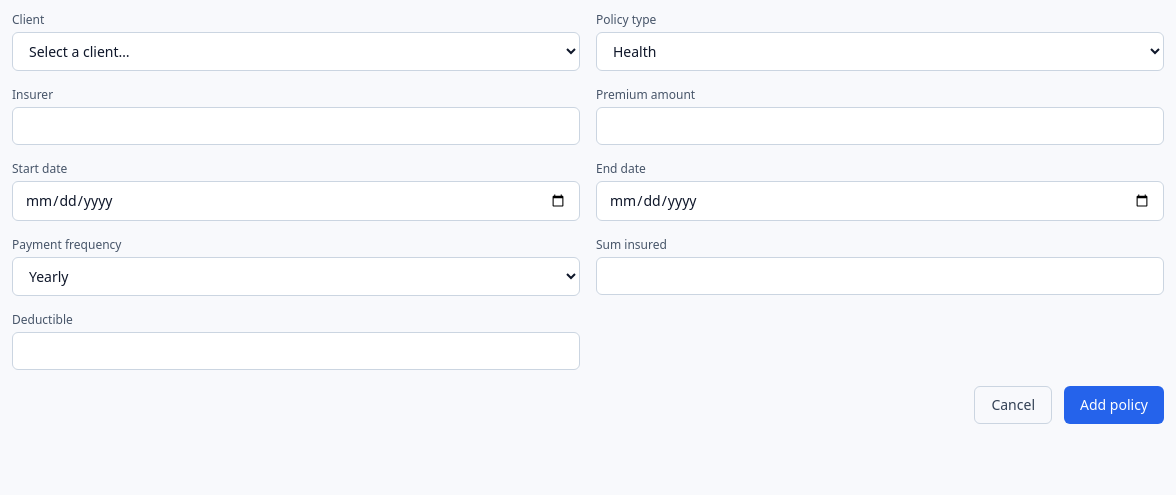
Test: PolicyForm (R11.6) › shows an end-date-before-start error and blocks submit (R11.6)
Select "Jane Doe" in the dropdown labelled "Client". click: (296, 52)
box: [12,32,580,71]
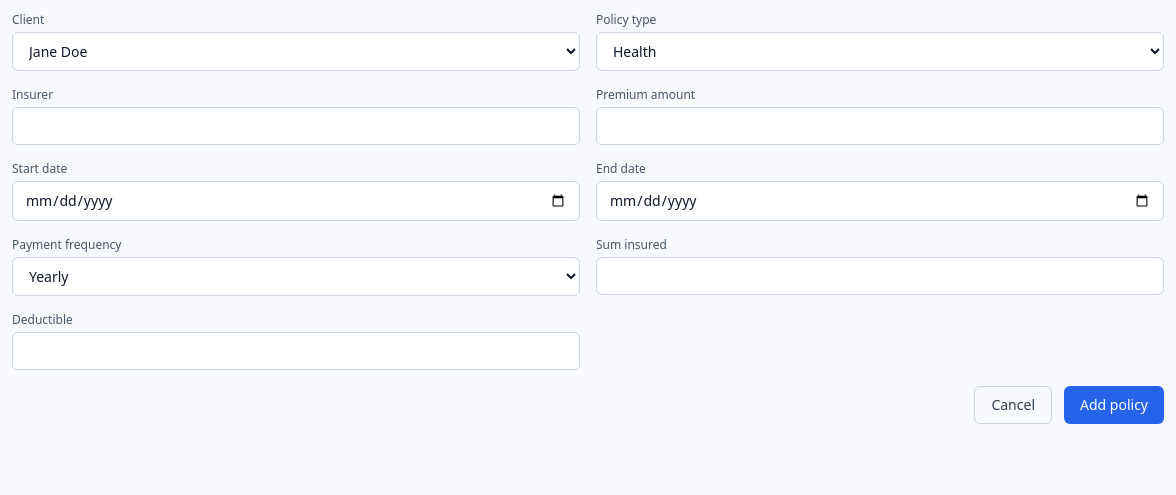
Type "HDFC" into the field labelled "Insurer". click: (296, 126)
box: [12,107,580,145]
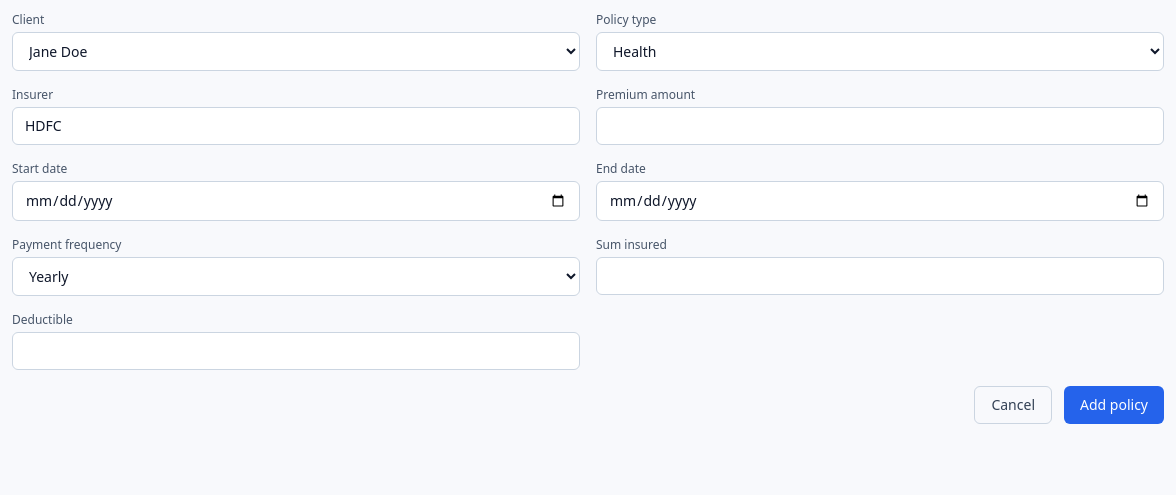
Type "5000" into the number field labelled "Premium amount". click: (880, 126)
box: [596,107,1164,145]
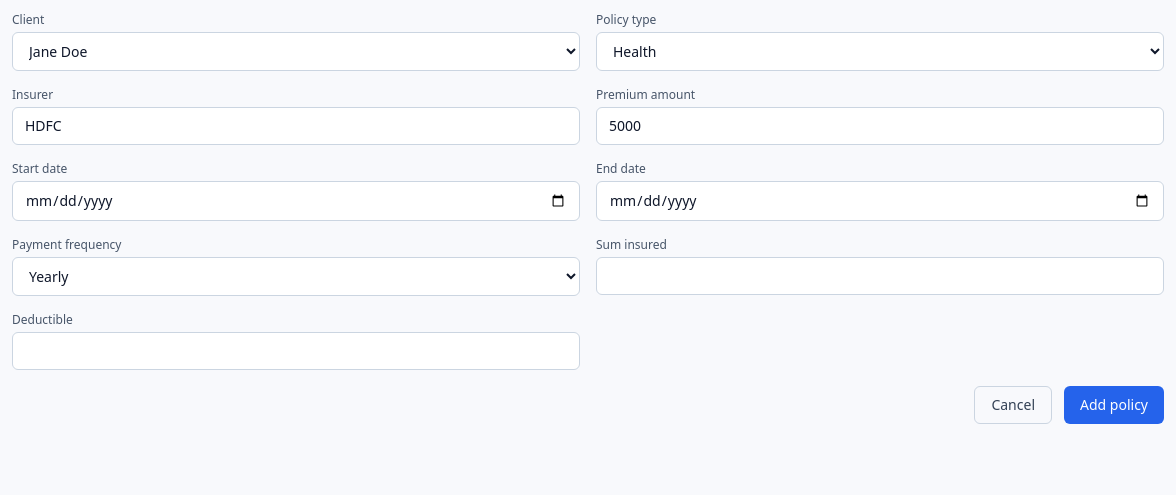
Select "Yearly" in the dropdown labelled "Payment frequency". click: (296, 276)
box: [12,257,580,296]
Type "2024-06-01" into the date field labelled "Start date". click: (296, 201)
box: [12,181,580,221]
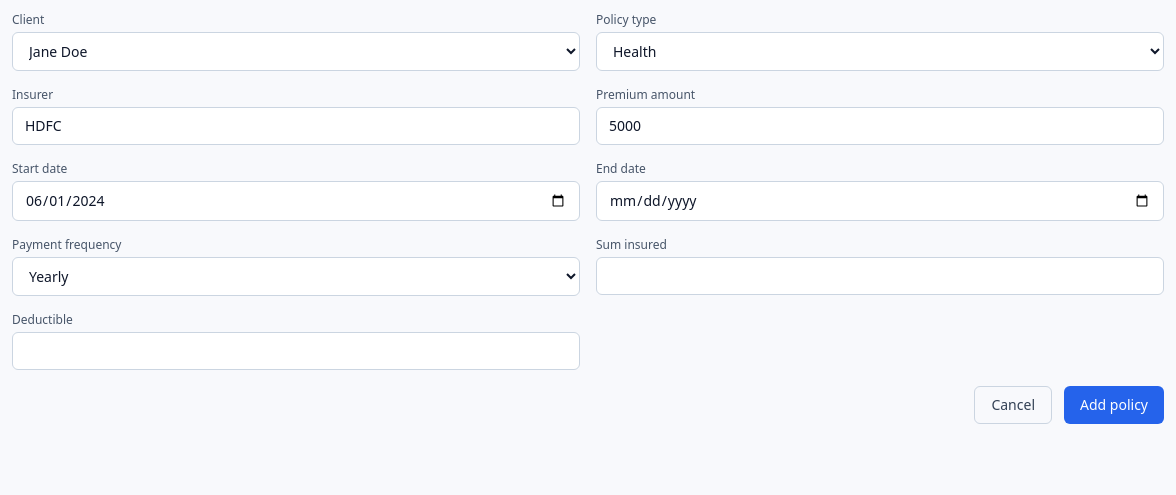
Type "2024-01-01" into the date field labelled "End date". click: (880, 201)
box: [596,181,1164,221]
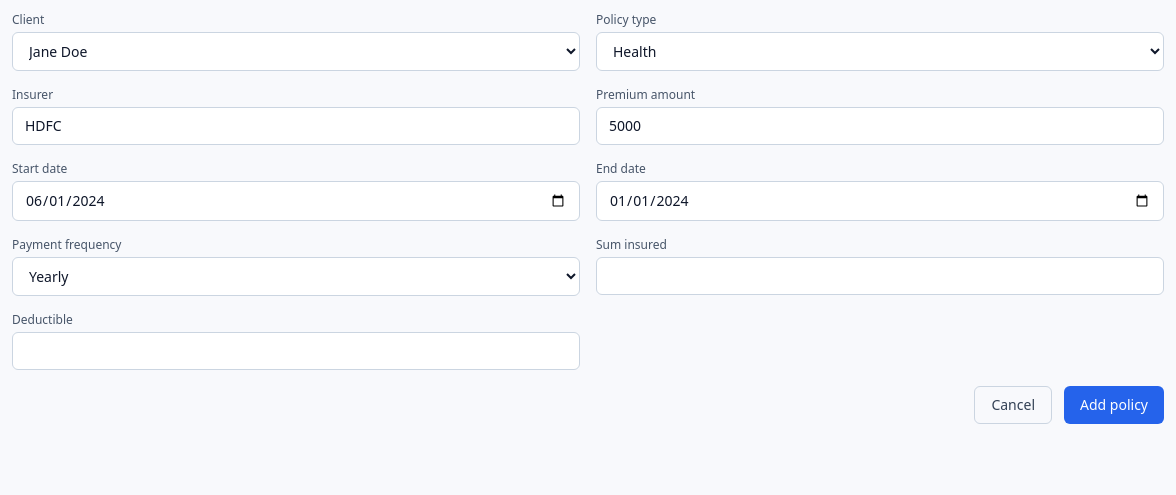
Click the button "Add policy". click: (1114, 405)
box: [1064,386,1164,424]
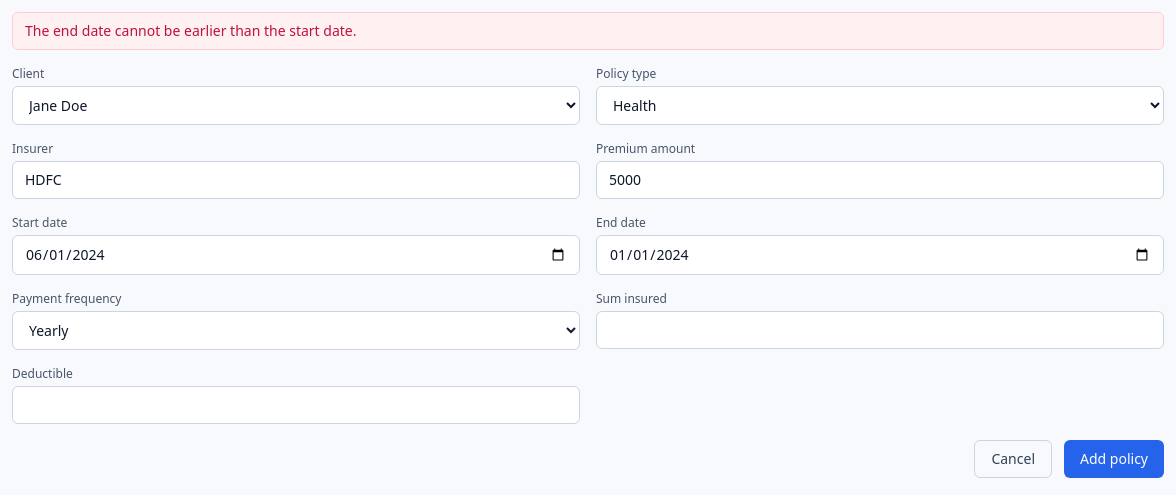
Now the text "The end date cannot be earlier than the start date." is shown, box [12,12,1164,50]
